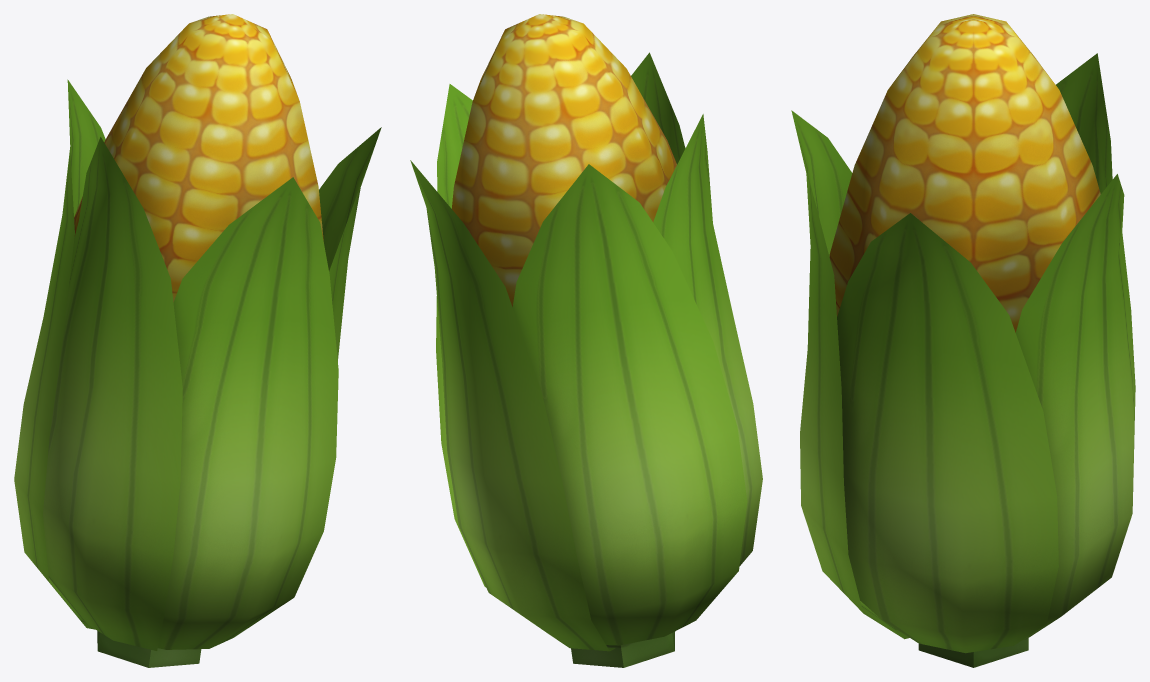
The model's file is Corn.fbx.
The picture shows the model from 3 angles, left to right: view 1: azimuth 30°, elevation 25°; view 2: azimuth 150°, elevation 25°; view 3: azimuth 270°, elevation 25°; orthographic projection. The views are drawn at different scales.
Visible parts, largest first — view 1: 060; view 2: 060; view 3: 060.
Part boxes in pixels (x1,y1,x2,y2): 060: [14, 14, 381, 667]; 060: [410, 14, 762, 667]; 060: [791, 14, 1135, 667].
Size of the model in its own units: 29.64 by 55.23 by 25.96.
Materials: 1 (1 with a texture image).
